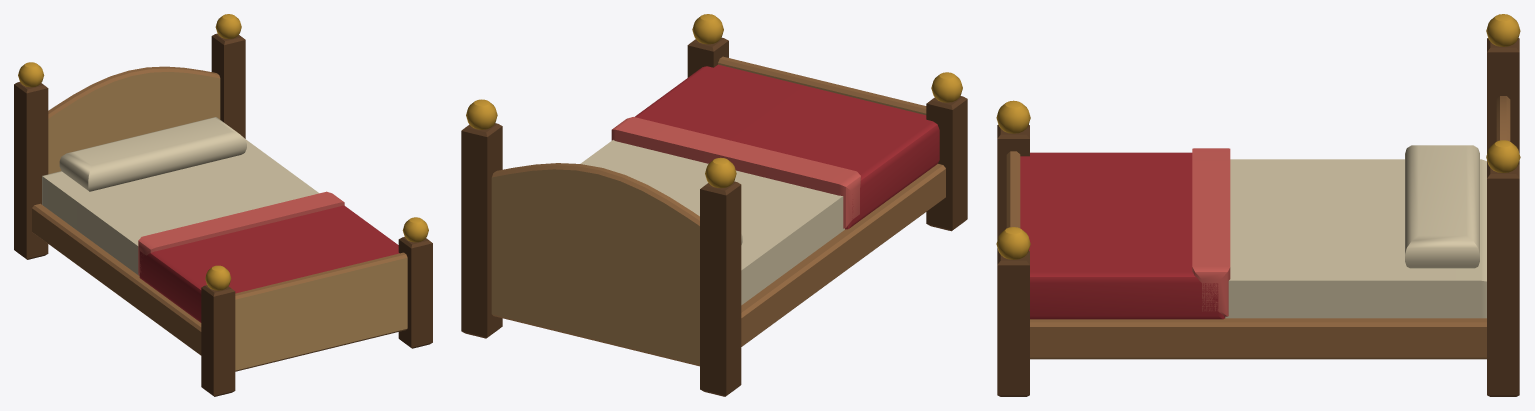
Rendered from Bed_06.glb.
3 views of the same model, side by side, from view 1: azimuth 30°, elevation 25°; view 2: azimuth 150°, elevation 25°; view 3: azimuth 270°, elevation 25° (orthographic). The views are drawn at different scales.
Visible parts, largest first — view 1: Bed_06; view 2: Bed_06; view 3: Bed_06.
Boxes of the visible parts, x1,y1,x2,y2 form: Bed_06: (14, 14, 432, 396); Bed_06: (461, 14, 967, 396); Bed_06: (996, 14, 1520, 396).
Bounding box in the file's own units: 4.87 × 4.03 × 7.66.
